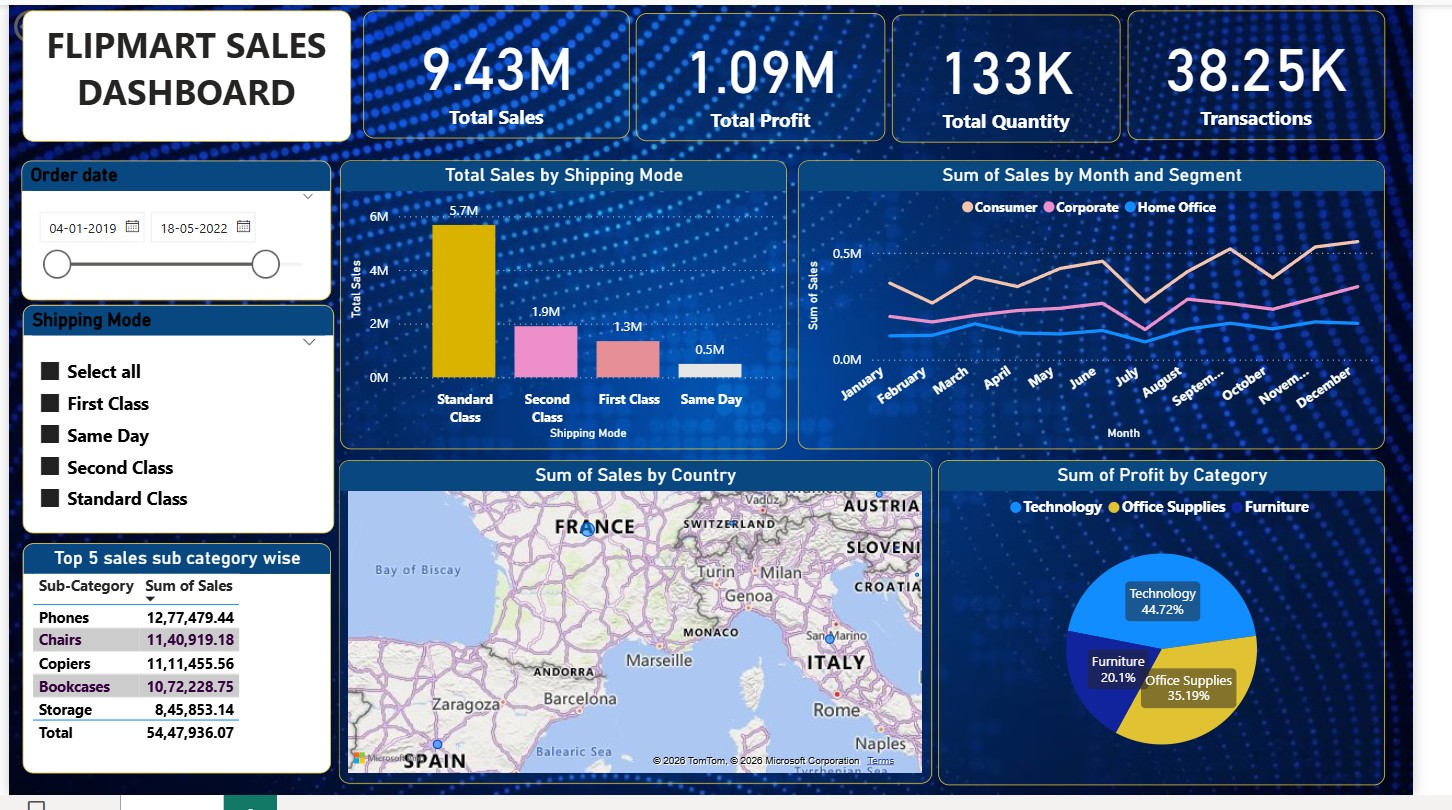

This screenshot's page, from the dashboard's own definition file:
{"tool":"powerbi","page":{"name":"Page 1","canvas":[1280,720],"ordinal":0},"visuals":[{"type":"card","fields":{"Values":["Sum(Sales (2).Sales)"]},"box":[322.5,5.5,242.9,116.6],"z":0},{"type":"card","fields":{"Values":["Sum(Sales (2).Profit)"]},"box":[570.8,6.9,227.8,116.6],"z":1000},{"type":"card","fields":{"Values":["CountNonNull(Sales (2).Order ID)"]},"box":[1019.6,5.5,234.6,118],"z":2000},{"type":"card","fields":{"Values":["Sum(Sales (2).Quantity)"]},"box":[805.5,8.2,208.6,116.6],"z":3000},{"type":"actionButton","box":[0,0,100,40],"z":4000},{"type":"clusteredColumnChart","title":"Total Sales by Shipping Mode","fields":{"Category":["Sales (2).Shipping Mode"],"Y":["Sum(Sales (2).Sales)"]},"box":[301.9,141.3,407.5,263.5],"z":5000},{"type":"pieChart","fields":{"Category":["Sales (2).Category"],"Y":["Sum(Sales (2).Profit)"]},"box":[846.7,414.4,407.5,296.4],"z":6000},{"type":"lineChart","fields":{"Y":["Sum(Sales (2).Sales)"],"Category":["Sales (2).Order Date.Variation.Date Hierarchy.Month"],"Series":["Sales (2).Segment"]},"box":[719,141.3,535.2,263.5],"z":7000},{"type":"map","fields":{"Category":["Sales (2).Country"],"Size":["Sum(Sales (2).Sales)"]},"box":[300.5,414.4,540.7,295],"z":8000},{"type":"tableEx","title":"Top 5 sales sub category wise","fields":{"Values":["Sales (2).Sub-Category","Sum(Sales (2).Sales)"]},"box":[12.3,491.3,281.3,209.9],"z":9000},{"type":"slicer","title":"Shipping Mode","fields":{"Values":["Sales (2).Shipping Mode"]},"box":[12.3,273.1,284,208.6],"z":10000},{"type":"slicer","title":"Order date","fields":{"Values":["Sales (2).Order Date"]},"box":[11,141.3,282.7,127.6],"z":11000},{"type":"textbox","box":[12.3,5.5,299.1,119.4],"z":12000}]}

Visuals, with their boxes in screenshot pixels (x1, y1, x2, y2), scaled from the page's 1280x720 canvas onto the 1452x810 screenshot:
card - Sum(Sales (2).Sales): crop(366, 6, 641, 137)
card - Sum(Sales (2).Profit): crop(648, 8, 906, 139)
card - CountNonNull(Sales (2).Order ID): crop(1157, 6, 1423, 139)
card - Sum(Sales (2).Quantity): crop(914, 9, 1150, 140)
actionButton: crop(0, 0, 113, 45)
"Total Sales by Shipping Mode" clusteredColumnChart: crop(342, 159, 805, 455)
pieChart - Sales (2).Category x Sum(Sales (2).Profit): crop(960, 466, 1423, 800)
lineChart - Sum(Sales (2).Sales) x Sales (2).Order Date.Variation.Date Hierarchy.Month: crop(816, 159, 1423, 455)
map - Sales (2).Country x Sum(Sales (2).Sales): crop(341, 466, 954, 798)
"Top 5 sales sub category wise" tableEx: crop(14, 553, 333, 789)
"Shipping Mode" slicer: crop(14, 307, 336, 542)
"Order date" slicer: crop(12, 159, 333, 303)
textbox: crop(14, 6, 353, 141)
